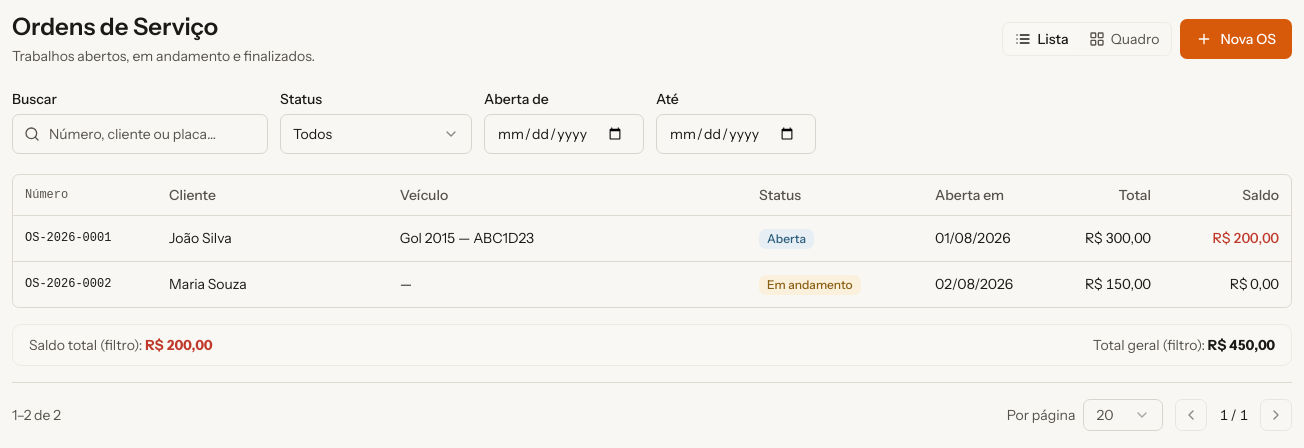
OrdensListPage — alternância de visão › alterna para Quadro e persiste em localStorage
Expected: the text "João Silva" is shown, [157,215,388,261]
Click the button "Quadro": (1124, 39) [1079,25,1169,53]
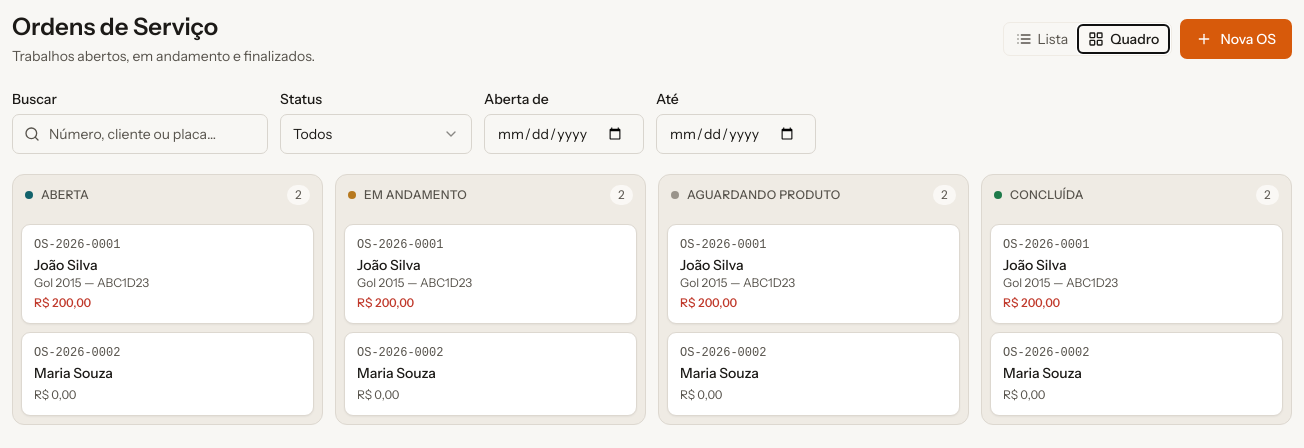
Now the element named "coluna aberta" is shown, box [12,174,323,425]
